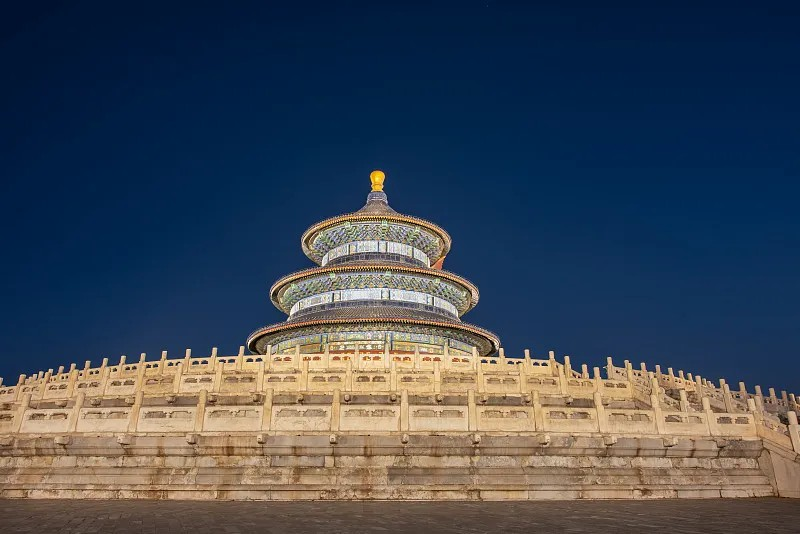Heaven: (245, 168, 501, 359)
